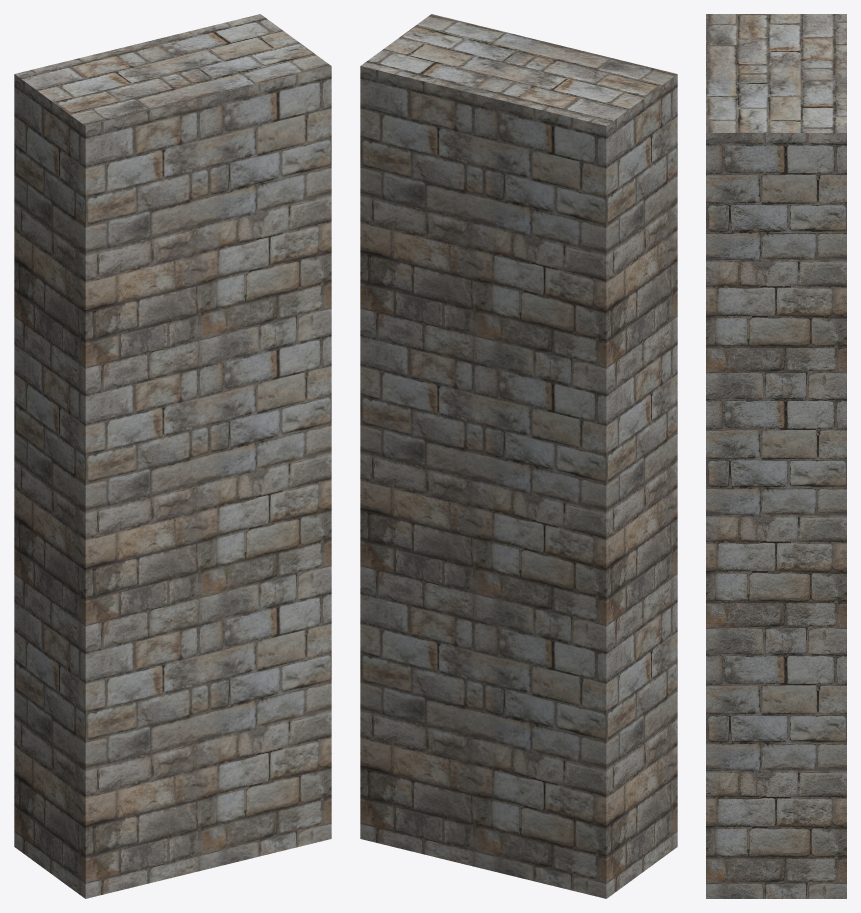
File: Flooring_A3.fbx
3 renders of one model, left to right at view 1: azimuth 30°, elevation 25°; view 2: azimuth 150°, elevation 25°; view 3: azimuth 270°, elevation 25°, orthographic.
Visible parts, largest first — view 1: Flooring_A3; view 2: Flooring_A3; view 3: Flooring_A3.
Boxes of the visible parts, x1=… form: Flooring_A3: x1=14, y1=14, x2=331, y2=898; Flooring_A3: x1=360, y1=14, x2=677, y2=898; Flooring_A3: x1=706, y1=14, x2=846, y2=898.
Size of the model in its own units: 150 by 450 by 75.
